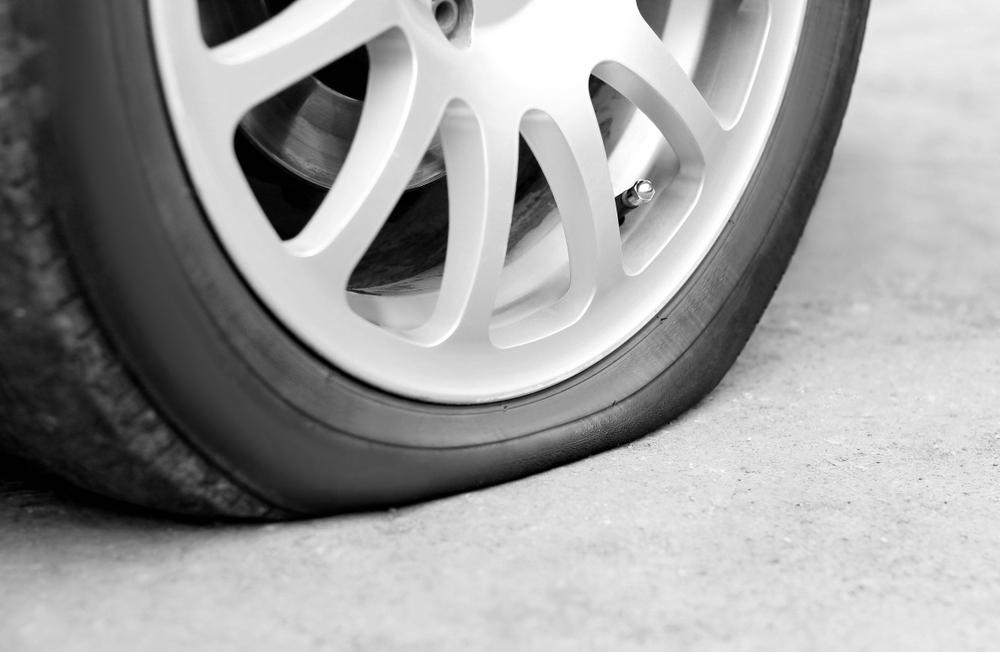tire flat: (0, 0, 873, 525)
